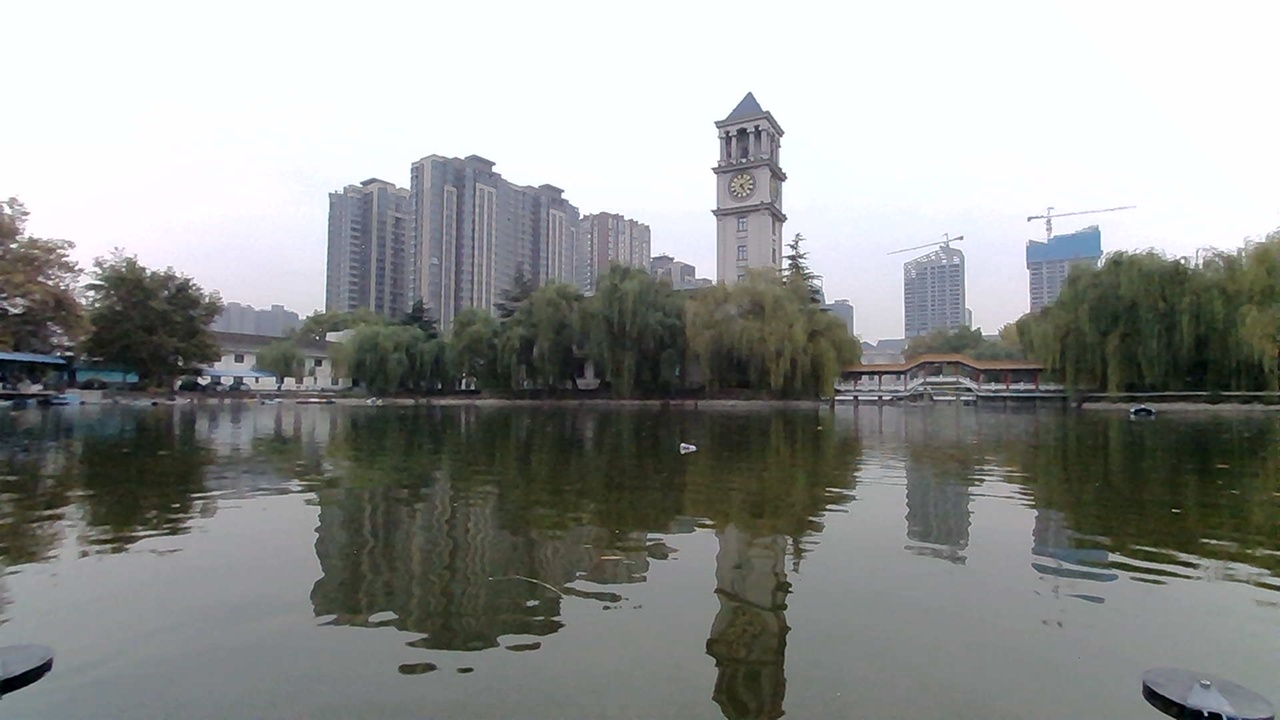bottle: (670, 429, 722, 467)
